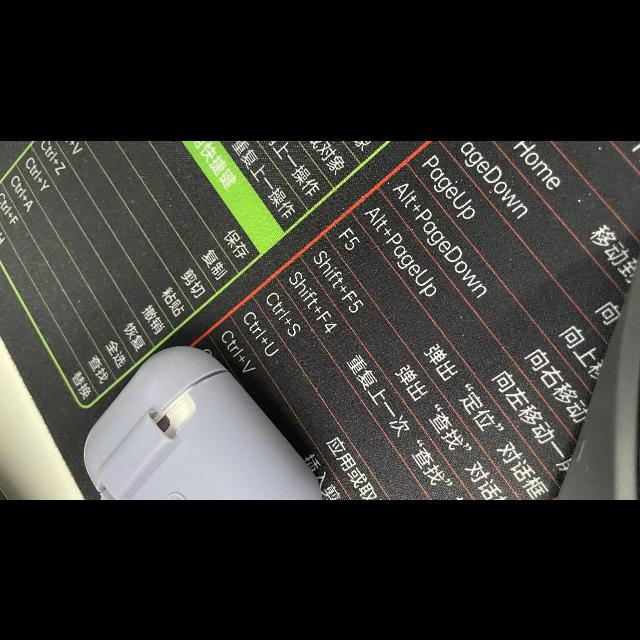airpods: (84, 346, 323, 500)
